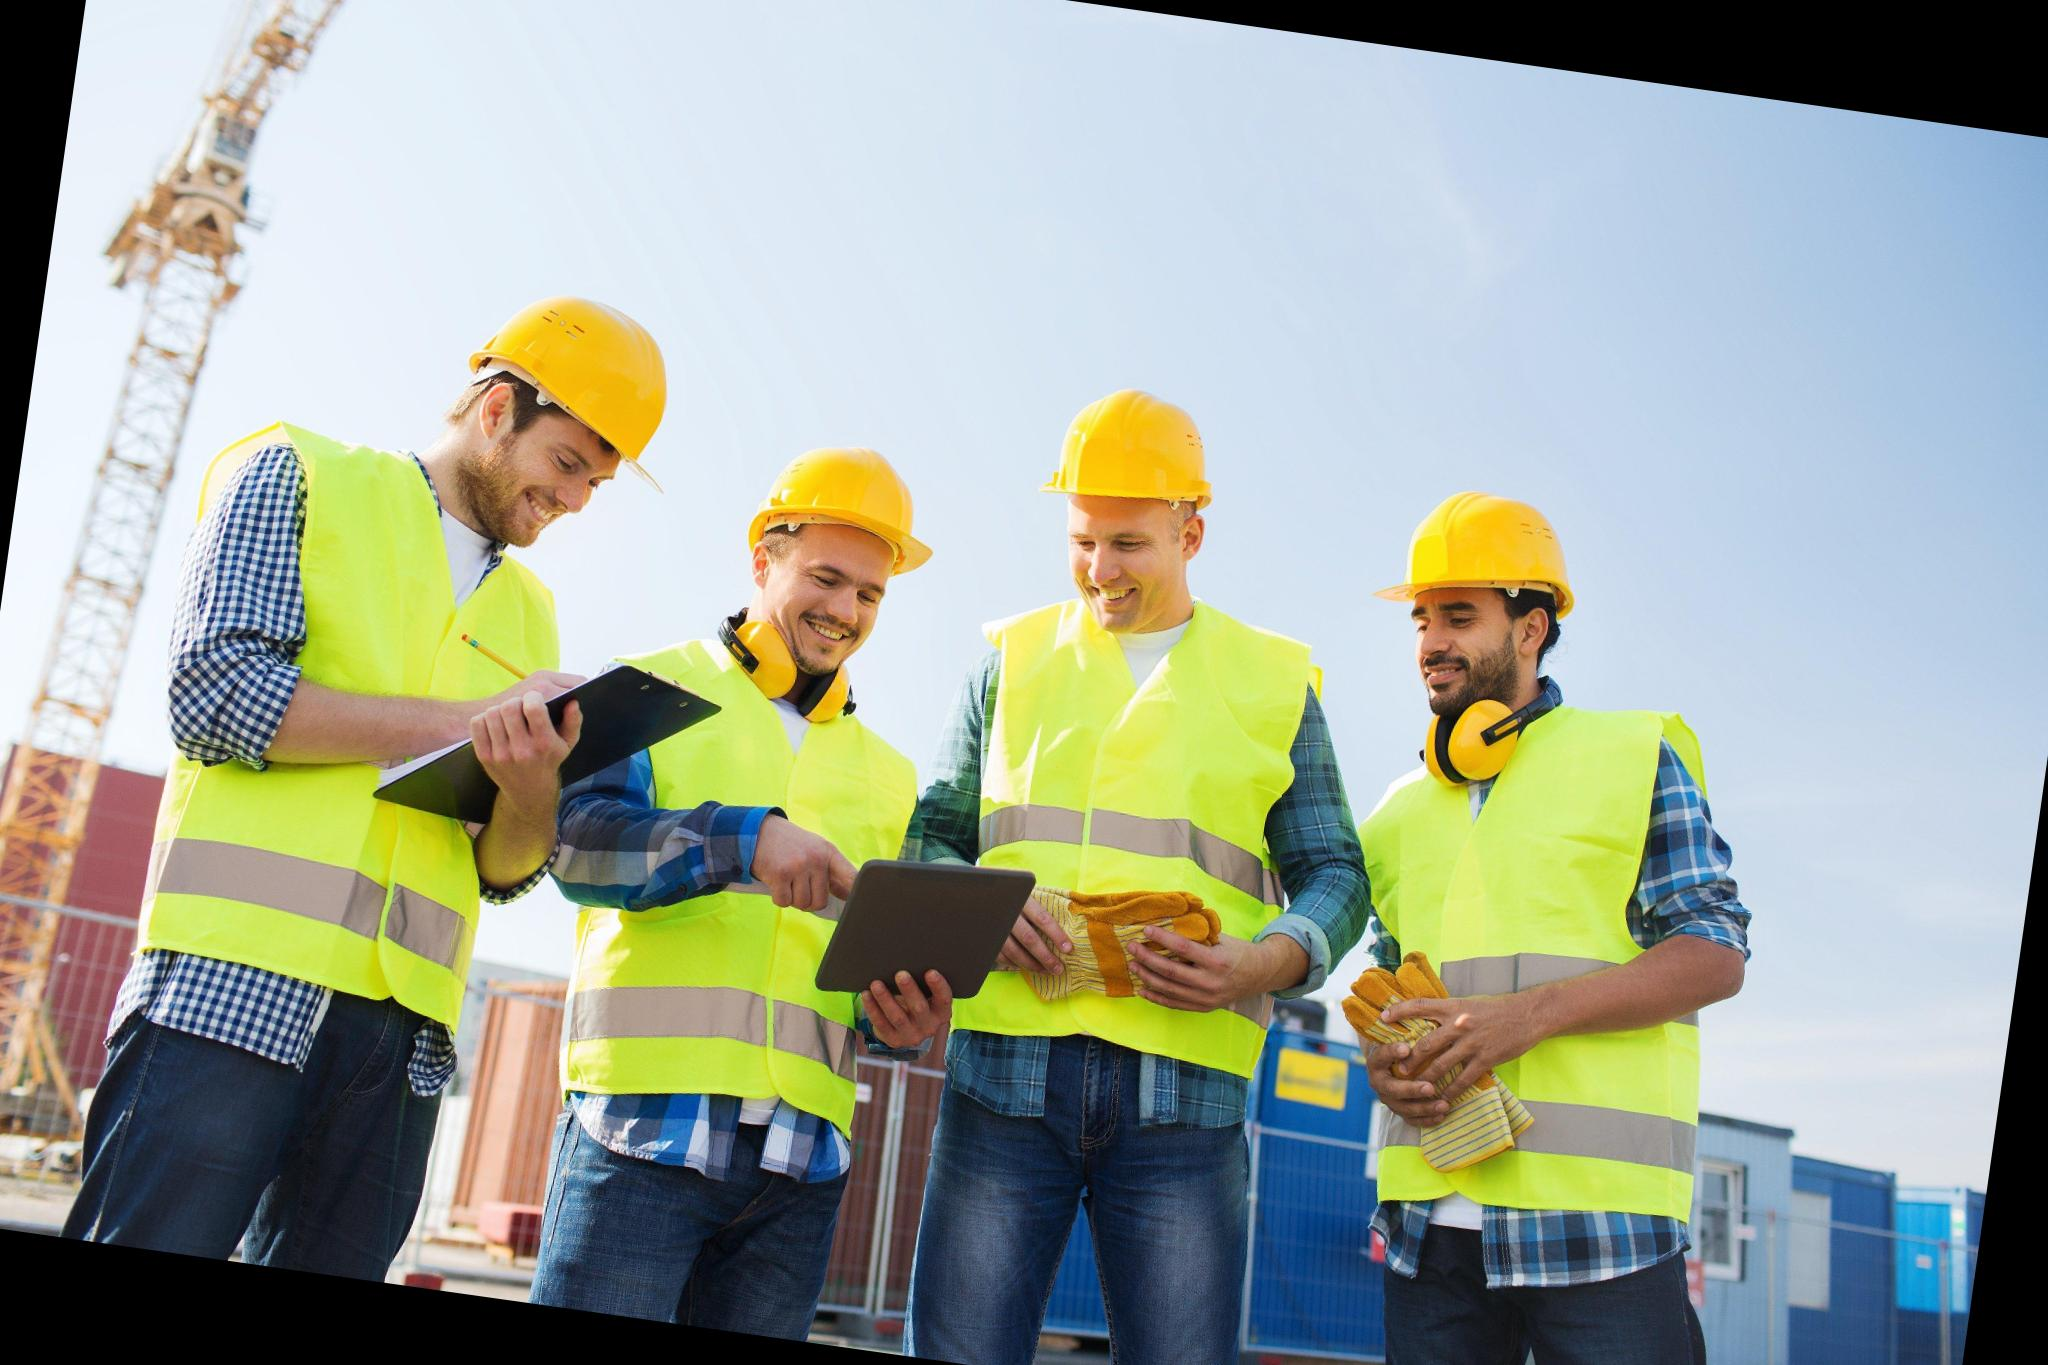Vest: (123, 452, 545, 1112), (1306, 681, 1748, 1263), (573, 615, 946, 1175), (938, 599, 1308, 1103)
